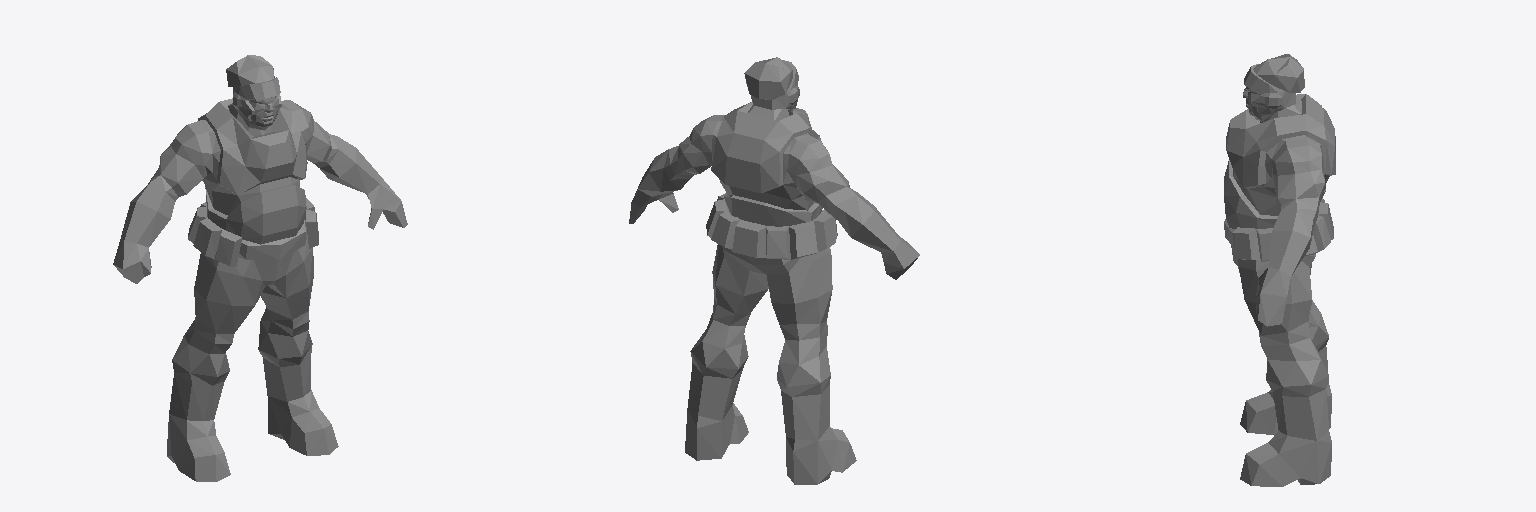
The model's file is bunker.obj.
3 views of the same model, side by side, from view 1: azimuth 30°, elevation 25°; view 2: azimuth 150°, elevation 25°; view 3: azimuth 270°, elevation 25° (orthographic).
Visible parts, largest first — view 1: l_legs, u_torso, h_head, l_pouch; view 2: l_legs, u_torso, l_pouch, h_head, l_bpouch; view 3: u_torso, l_legs, h_head, l_pouch.
Part boxes in pixels (x1,y1,x2,y2): l_legs: (167,217,338,481); u_torso: (113,98,407,283); h_head: (226,55,281,130); l_pouch: (188,198,318,266); l_legs: (685,207,856,484); u_torso: (629,102,919,279); l_pouch: (706,193,837,259); h_head: (744,57,799,115); l_bpouch: (732,220,766,257); u_torso: (1224,94,1335,326); l_legs: (1224,219,1331,486); h_head: (1243,54,1304,121); l_pouch: (1234,198,1330,261).
Size of the model in its own units: 47.54 by 62.95 by 16.22.